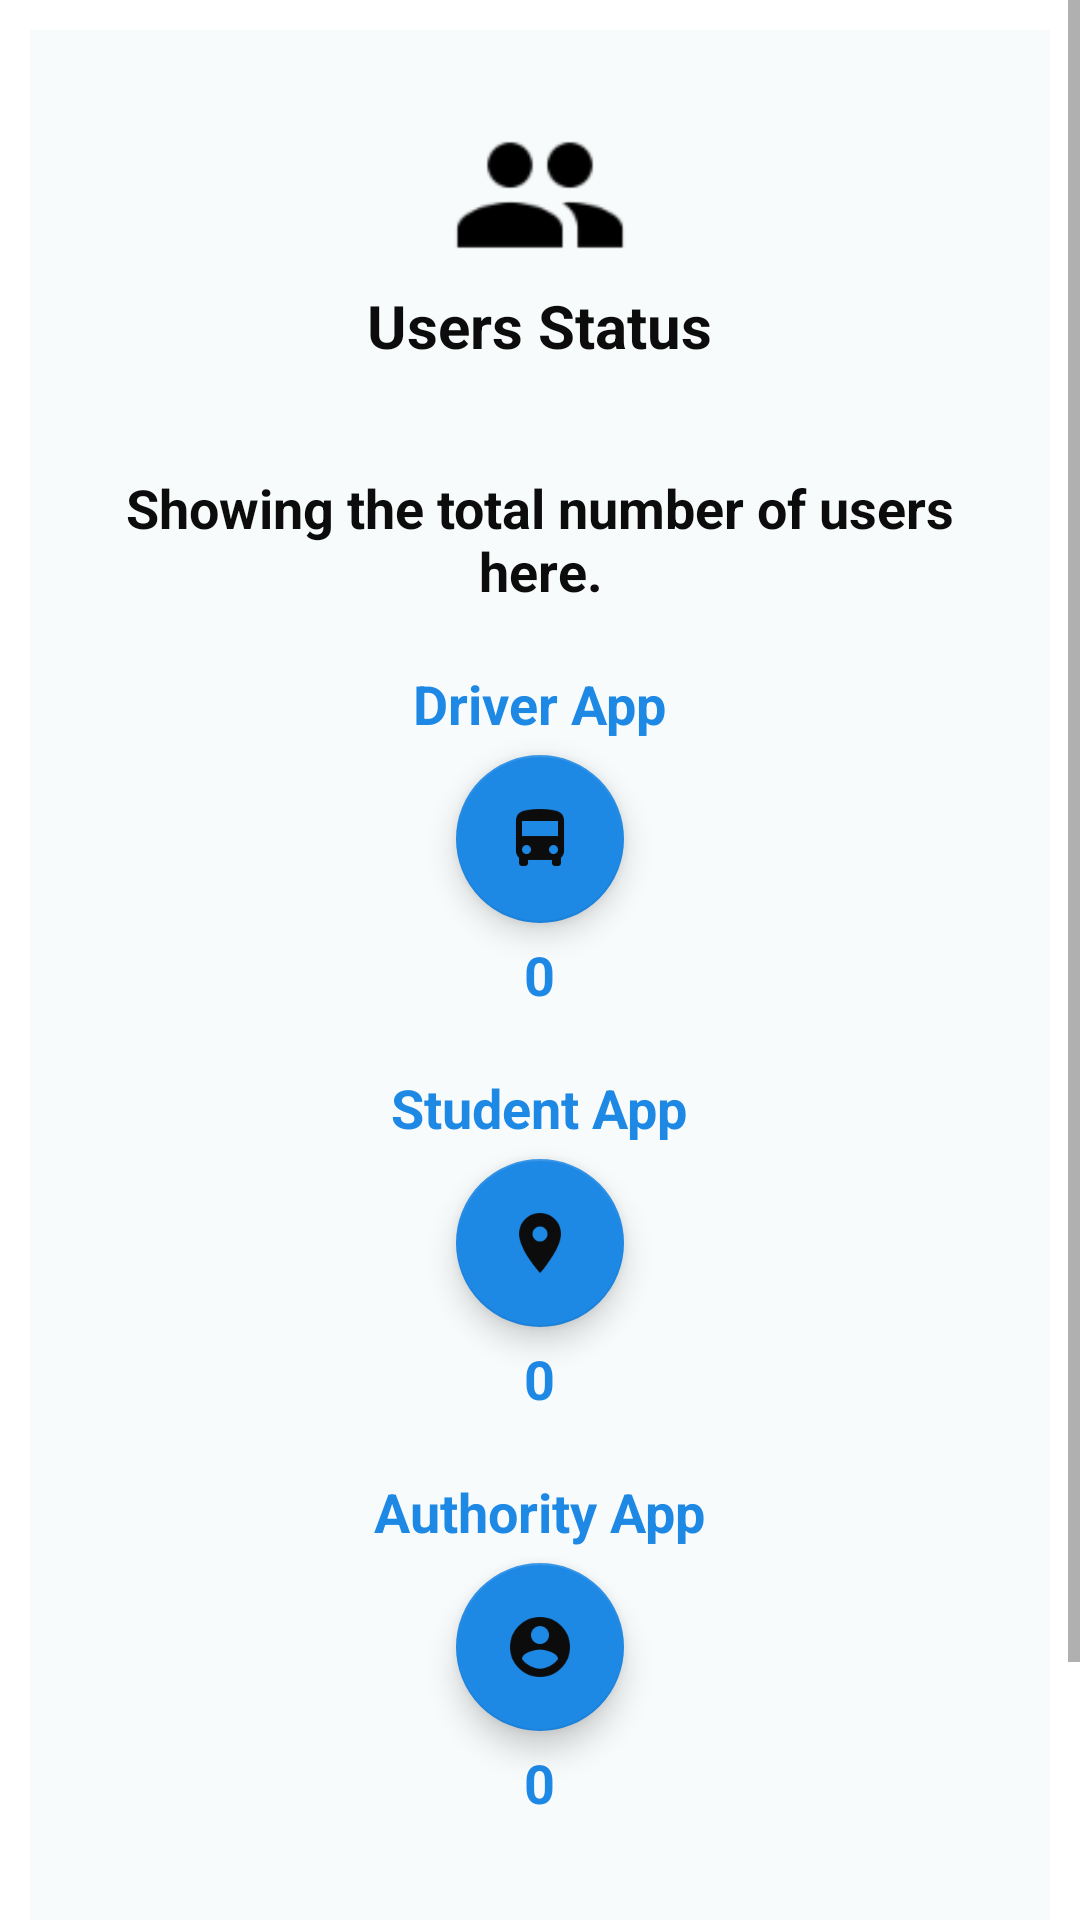

Icons on this 1080 x 1920 Android screen, each with the point to tap as [x,y]:
directions bus: [540,839]
location: [540,1243]
profile: [540,1647]
